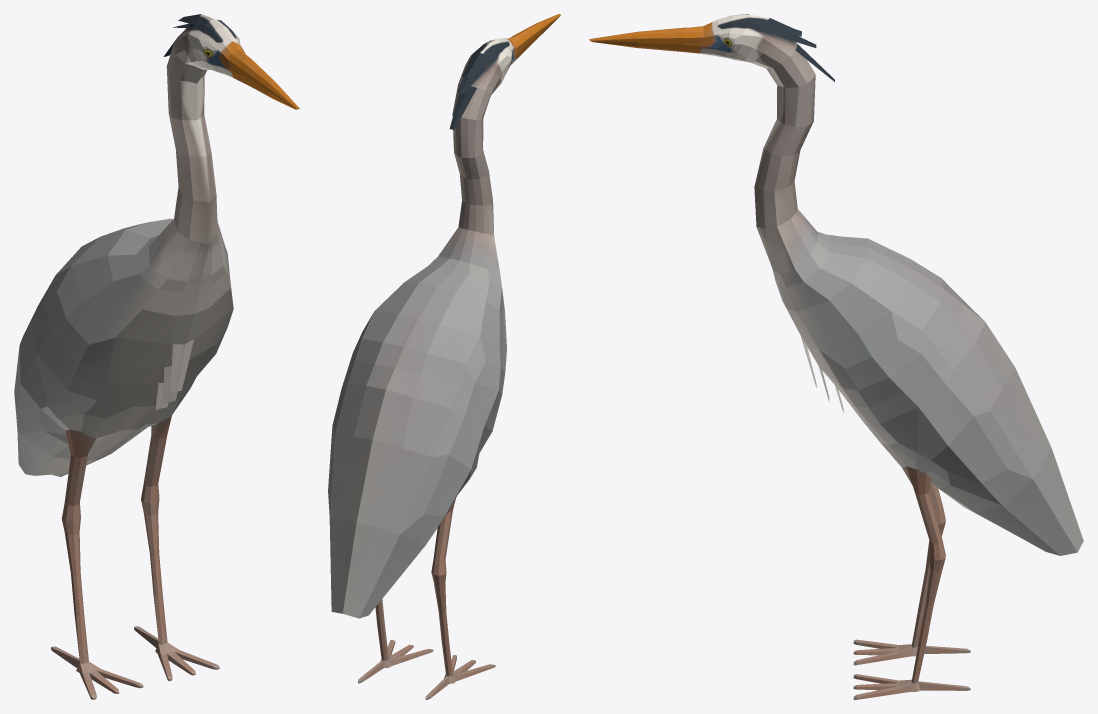
3 renders of one model, left to right at view 1: azimuth 30°, elevation 25°; view 2: azimuth 150°, elevation 25°; view 3: azimuth 270°, elevation 25°, orthographic. The views are drawn at different scales.
Parts seen in each view (by area): view 1: GreatBlueHeron; view 2: GreatBlueHeron; view 3: GreatBlueHeron.
Part boxes in pixels (x1,y1,x2,y2): GreatBlueHeron: (14, 14, 299, 699); GreatBlueHeron: (328, 14, 560, 699); GreatBlueHeron: (589, 14, 1083, 699).
Size of the model in its own units: 0.3036 by 1.18 by 0.8057.
Materials: 1 (1 with a texture image).
